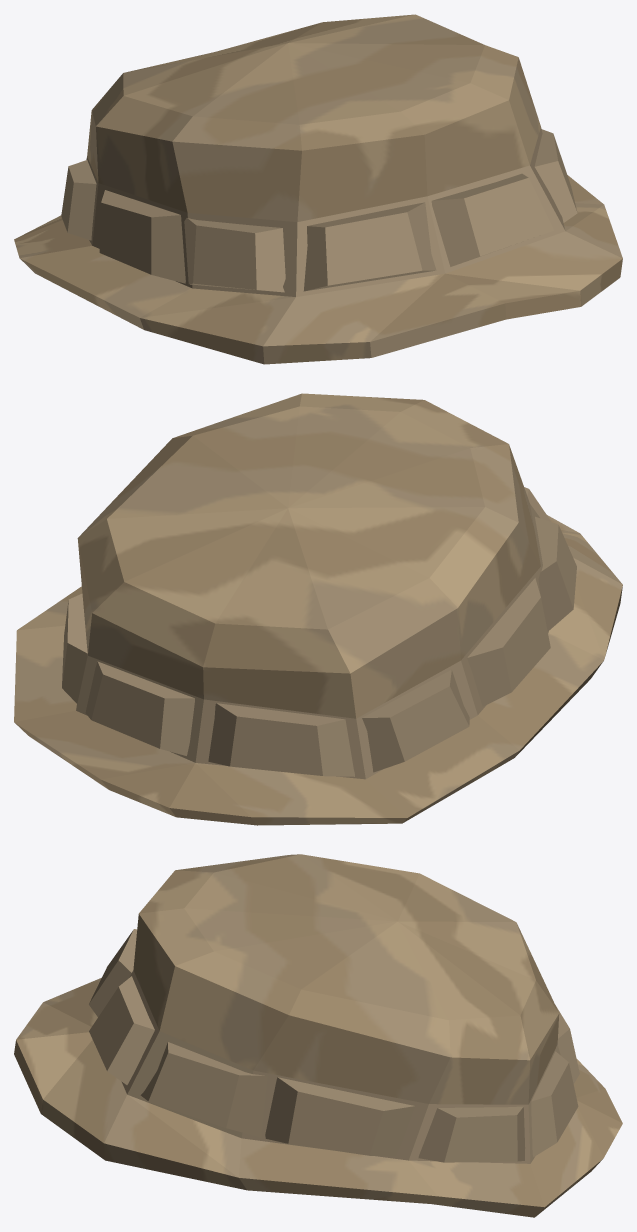
The model's file is SM_Chr_Attach_Hat_02.fbx.
3 renders of one model, top to bottom at view 1: azimuth 30°, elevation 25°; view 2: azimuth 150°, elevation 25°; view 3: azimuth 270°, elevation 25°, orthographic. The views are drawn at different scales.
Parts seen in each view (by area): view 1: SM_Chr_Attach_Hat_02; view 2: SM_Chr_Attach_Hat_02; view 3: SM_Chr_Attach_Hat_02.
Part boxes in pixels (x1,y1,x2,y2): SM_Chr_Attach_Hat_02: [14, 14, 622, 364]; SM_Chr_Attach_Hat_02: [14, 393, 622, 825]; SM_Chr_Attach_Hat_02: [14, 854, 622, 1217].
Bounding box in the file's own units: 36.24 × 16.69 × 40.26.
